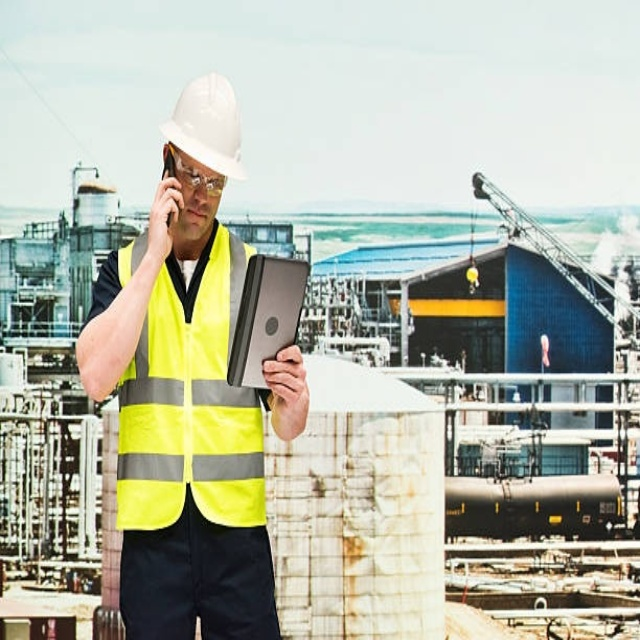Gafas: (169, 147, 227, 196)
Sin_guantes: (143, 173, 184, 259), (261, 346, 308, 410)
Sin_mascara: (183, 204, 208, 235)
